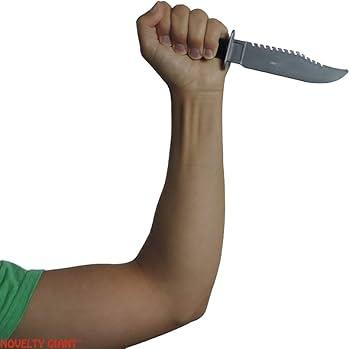Knife: (0, 0, 225, 349), (137, 0, 232, 91), (225, 30, 350, 83)
